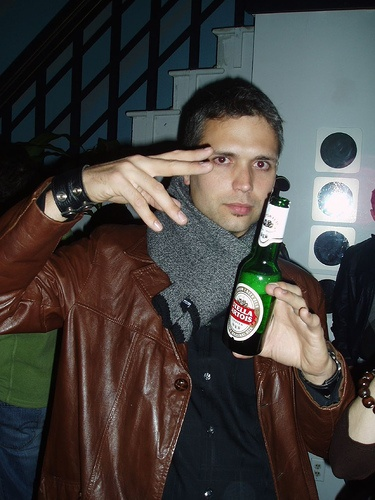head: (175, 76, 285, 234)
person: (1, 63, 374, 500)
